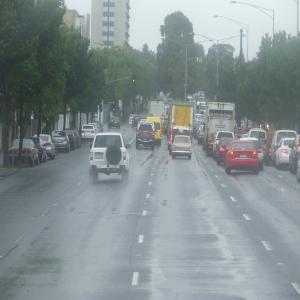Vehicle-registration-plate: (94, 154, 105, 160), (241, 155, 248, 159)
